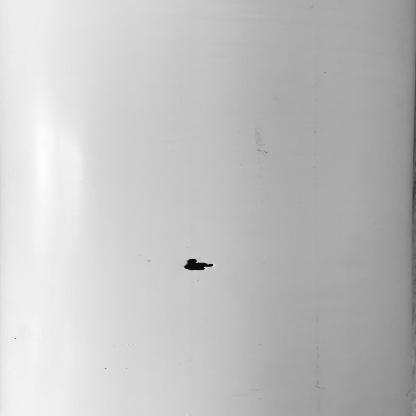kongdong: (180, 253, 219, 276)
